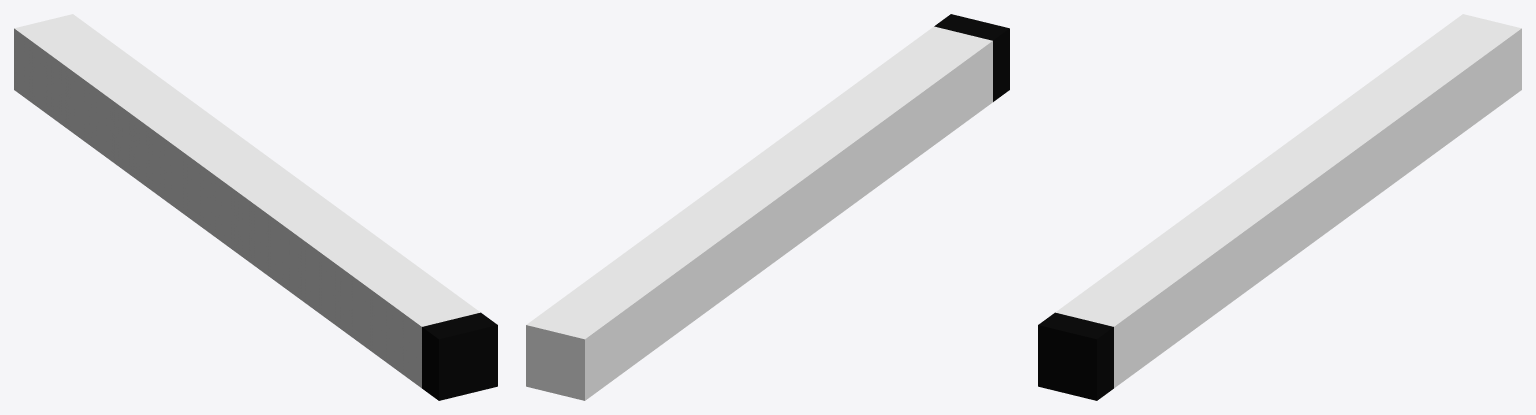
The model's file is cannon.gltf.
3 renders of one model, left to right at view 1: azimuth 30°, elevation 25°; view 2: azimuth 150°, elevation 25°; view 3: azimuth 330°, elevation 25°, orthographic.
Visible parts, largest first — view 1: Layer.1; view 2: Layer.1; view 3: Layer.1.
Boxes of the visible parts, x1,y1,x2,y2 form: Layer.1: (14, 14, 497, 400); Layer.1: (526, 14, 1009, 400); Layer.1: (1038, 14, 1521, 400).
Size of the model in its own units: 2 by 2 by 25.
1 material, 1 textured.
